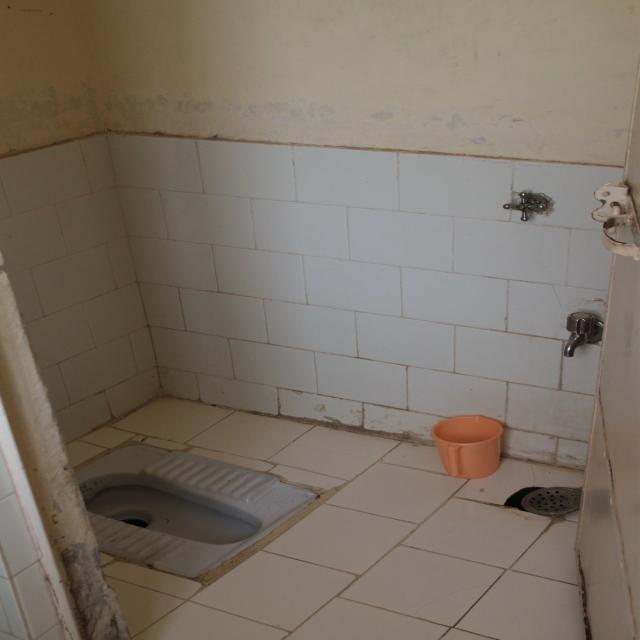damage: (561, 309, 604, 358), (502, 189, 554, 222)
dirty_floor: (3, 128, 626, 471), (66, 394, 587, 638), (72, 441, 325, 586), (82, 479, 261, 547), (430, 413, 504, 479), (502, 483, 583, 519)
